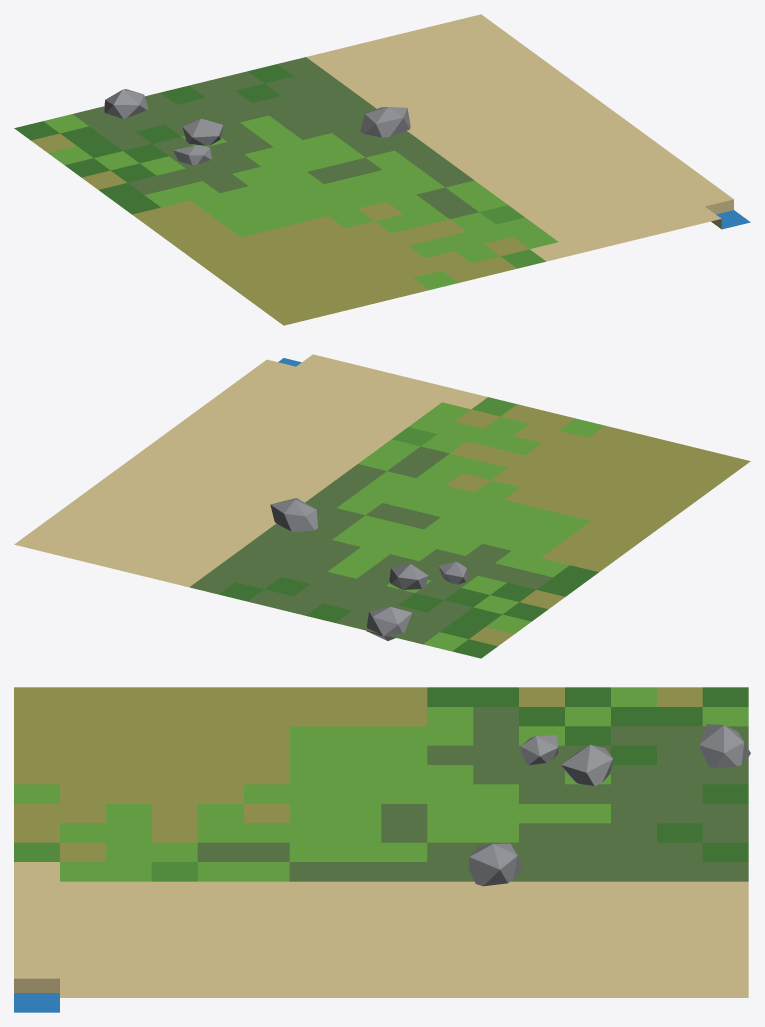
Rendered from chunk_11_3.glb.
3 renders of one model, top to bottom at view 1: azimuth 30°, elevation 25°; view 2: azimuth 150°, elevation 25°; view 3: azimuth 270°, elevation 25°, orthographic. The views are drawn at different scales.
Parts seen in each view (by area): view 1: chunk_11_3; view 2: chunk_11_3; view 3: chunk_11_3.
Part boxes in pixels (left/top/right/bottom): chunk_11_3: left=14, top=14, right=750, bottom=325; chunk_11_3: left=14, top=354, right=750, bottom=658; chunk_11_3: left=14, top=687, right=750, bottom=1012.
Bounding box in the file's own units: 16 × 1.17 × 16.05.
